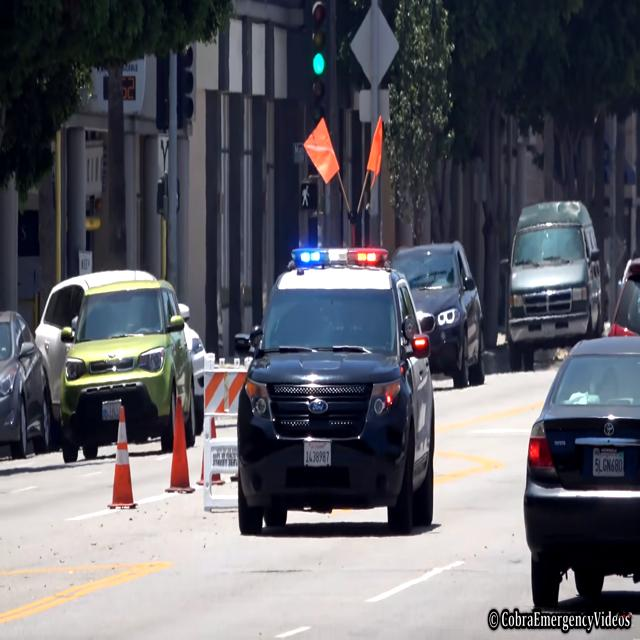emergency-vehicles: (222, 235, 446, 543)
